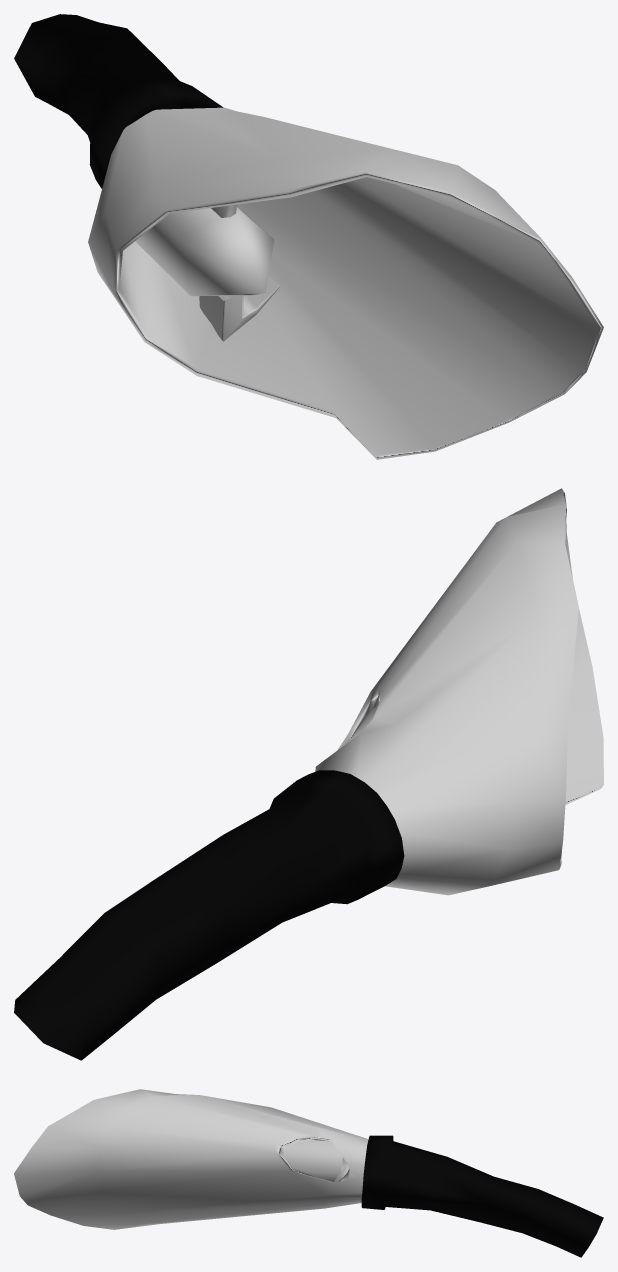
The model's file is NeroHud123.fbx.
3 renders of one model, top to bottom at view 1: azimuth 30°, elevation 25°; view 2: azimuth 150°, elevation 25°; view 3: azimuth 270°, elevation 25°, orthographic. The views are drawn at different scales.
Visible parts, largest first — view 1: LOD_1_Group_0_Sub_1__m000__Character_Default1, LOD_1_Group_0_Sub_2__tube; view 2: LOD_1_Group_0_Sub_1__m000__Character_Default1, LOD_1_Group_0_Sub_2__tube; view 3: LOD_1_Group_0_Sub_1__m000__Character_Default1, LOD_1_Group_0_Sub_2__tube.
Part boxes in pixels (x1,y1,x2,y2): LOD_1_Group_0_Sub_1__m000__Character_Default1: (88, 107, 603, 459); LOD_1_Group_0_Sub_2__tube: (14, 14, 223, 188); LOD_1_Group_0_Sub_1__m000__Character_Default1: (315, 488, 603, 895); LOD_1_Group_0_Sub_2__tube: (14, 770, 404, 1060); LOD_1_Group_0_Sub_1__m000__Character_Default1: (14, 1089, 368, 1229); LOD_1_Group_0_Sub_2__tube: (361, 1135, 603, 1257).
Bounding box in the file's own units: 46.2 × 42.84 × 156.
